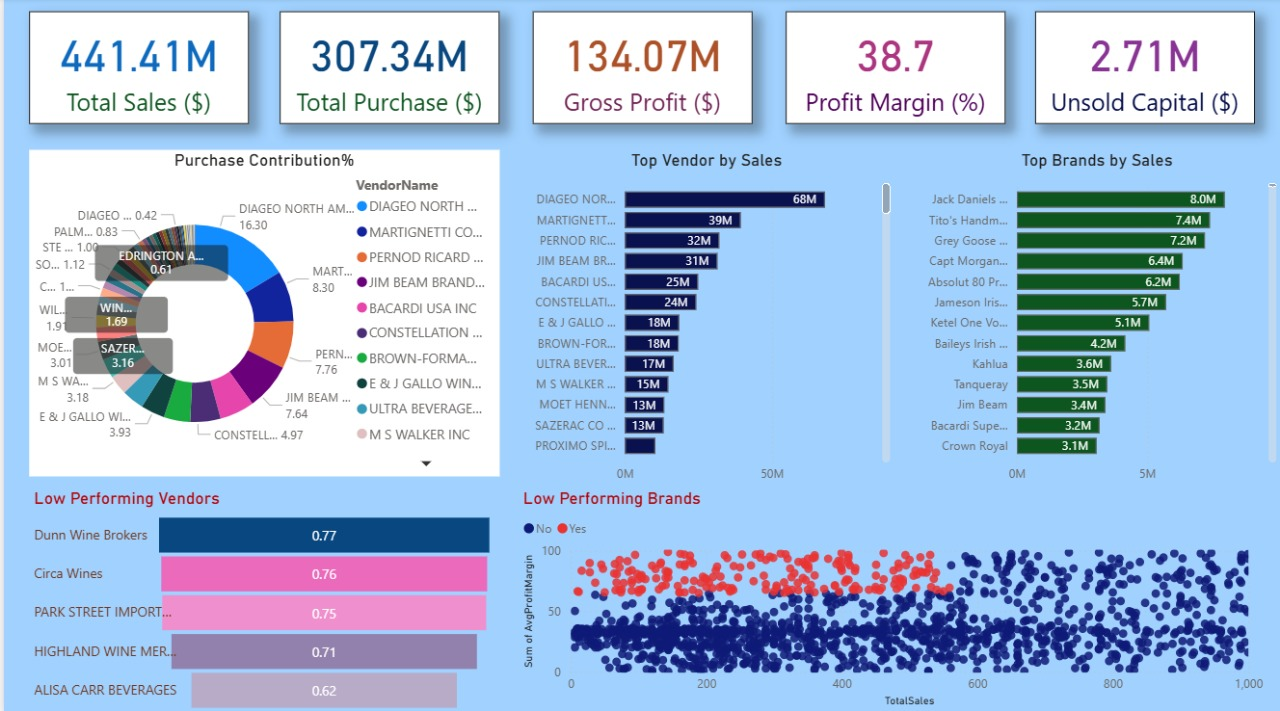

Layout of this report page (visuals, bound fields, positions):
{"tool":"powerbi","page":{"name":"Page 1","canvas":[1280,720],"ordinal":0},"visuals":[{"type":"card","fields":{"Values":["vendor_sales_summary.TotalSalesDollars"]},"box":[25,13.8,220,112.5],"z":0},{"type":"card","fields":{"Values":["vendor_sales_summary.TotalPurchaseDollars"]},"box":[276.2,13.8,220,112.5],"z":1000},{"type":"card","fields":{"Values":["vendor_sales_summary.GrossProfit"]},"box":[530,13.8,220,112.5],"z":2000},{"type":"card","fields":{"Values":["vendor_sales_summary.ProfitMargin"]},"box":[782.5,13.8,220,112.5],"z":3000},{"type":"card","fields":{"Values":["vendor_sales_summary.Unsold Capital"]},"box":[1032.5,13.8,220,112.5],"z":4000},{"type":"donutChart","title":"Purchase Contribution%","fields":{"Category":["PurchaseContribution.VendorName"],"Y":["PurchaseContribution.PurchaseContribution%"]},"box":[25,152.5,471.2,327.5],"z":5000},{"type":"barChart","title":"Top Vendor by Sales","fields":{"Y":["vendor_sales_summary.TotalSalesDollars"],"Category":["vendor_sales_summary.VendorName"]},"box":[515,152.5,377.5,342.5],"z":6000},{"type":"barChart","title":"Top Brands by Sales","fields":{"Y":["vendor_sales_summary.TotalSalesDollars"],"Category":["vendor_sales_summary.Description"]},"box":[910,152.5,370,342.5],"z":7000},{"type":"funnel","title":"Low Performing Vendors","fields":{"Y":["LowTurnoverVendor.AvgStockTurnOver"],"Category":["LowTurnoverVendor.VendorName"]},"box":[25,491,471,229],"z":8000},{"type":"scatterChart","title":"Low Performing Brands","fields":{"Category":["BrandPerformance.Description"],"X":["BrandPerformance.TotalSales"],"Y":["BrandPerformance.AvgProfitMargin"],"Series":["BrandPerformance.TargetBrand"]},"box":[515,491.2,751.2,223.8],"z":9000}]}

Visuals, with their boxes in screenshot pixels (x1, y1, x2, y2), scaled from the page's 1280x720 canvas onto the 1280x711 screenshot:
card - vendor_sales_summary.TotalSalesDollars: BBox(25, 14, 245, 125)
card - vendor_sales_summary.TotalPurchaseDollars: BBox(276, 14, 496, 125)
card - vendor_sales_summary.GrossProfit: BBox(530, 14, 750, 125)
card - vendor_sales_summary.ProfitMargin: BBox(782, 14, 1002, 125)
card - vendor_sales_summary.Unsold Capital: BBox(1032, 14, 1252, 125)
"Purchase Contribution%" donutChart: BBox(25, 151, 496, 474)
"Top Vendor by Sales" barChart: BBox(515, 151, 892, 489)
"Top Brands by Sales" barChart: BBox(910, 151, 1279, 489)
"Low Performing Vendors" funnel: BBox(25, 485, 496, 710)
"Low Performing Brands" scatterChart: BBox(515, 485, 1266, 706)
